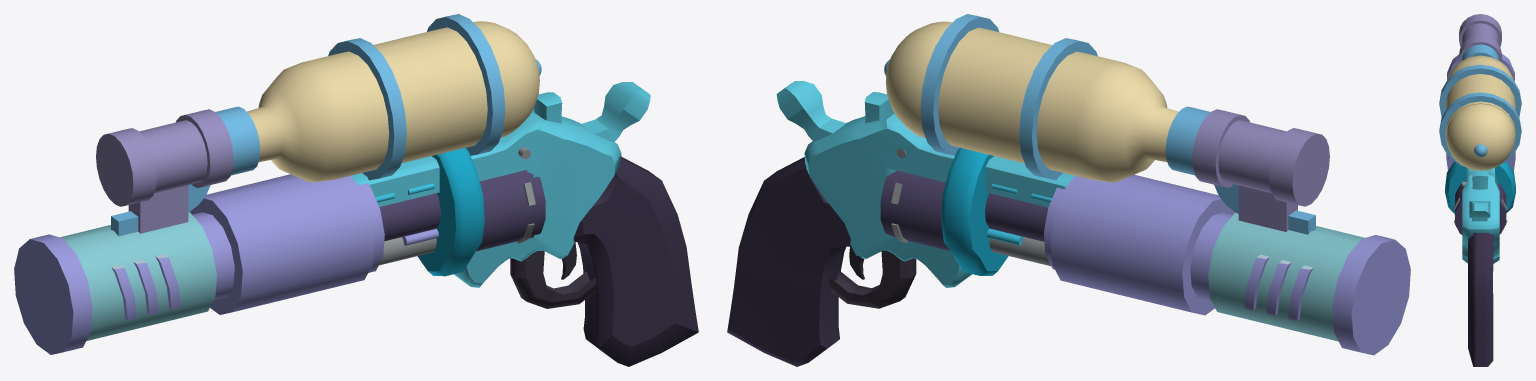
File: painballgun.fbx
3 renders of one model, left to right at view 1: azimuth 30°, elevation 25°; view 2: azimuth 150°, elevation 25°; view 3: azimuth 270°, elevation 25°, orthographic. The views are drawn at different scales.
Parts seen in each view (by area): view 1: pSphere3; view 2: pSphere3; view 3: pSphere3.
Boxes of the visible parts, bbox=[...] form: pSphere3: bbox=[14, 14, 698, 366]; pSphere3: bbox=[727, 14, 1410, 366]; pSphere3: bbox=[1439, 14, 1521, 366].
Bounding box in the file's own units: 38.03 × 21.34 × 7.25.
